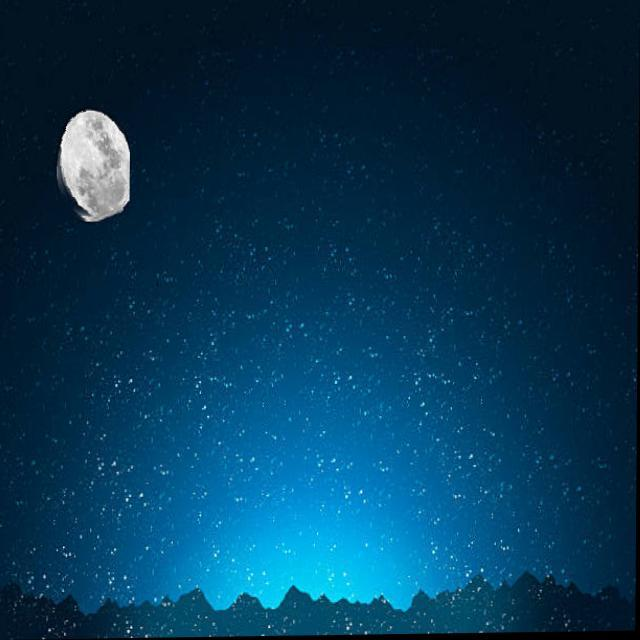moon: (54, 105, 130, 222)
